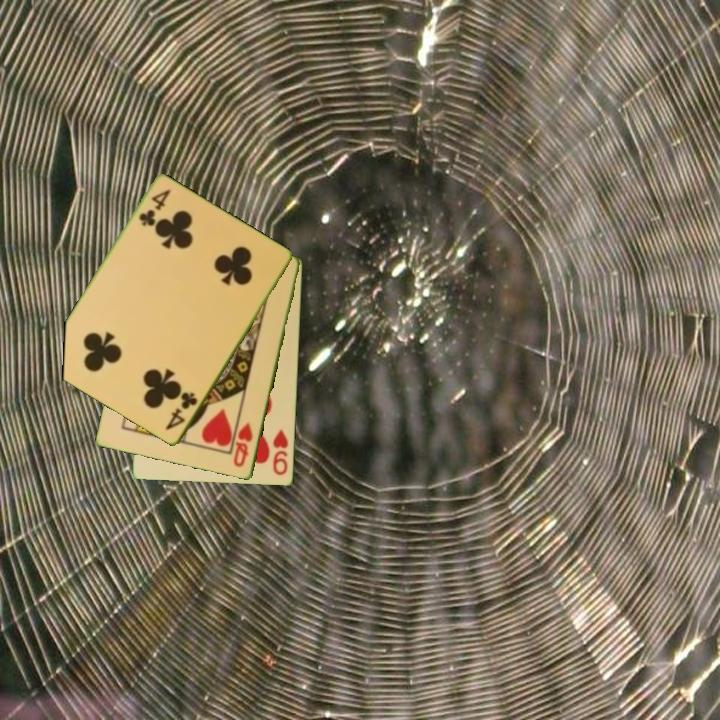4c: (162, 389, 201, 433), (135, 186, 174, 230)
9h: (270, 426, 291, 478)
Qh: (230, 419, 256, 470)
